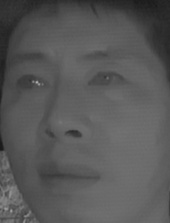eye: (87, 68, 124, 92), (14, 73, 51, 96)
mouth: (33, 158, 101, 193)
